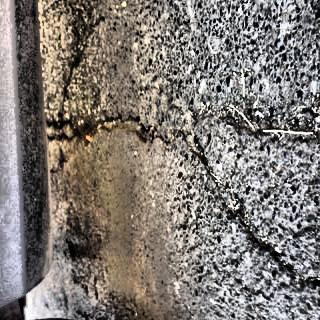crack: (189, 148, 320, 285), (42, 104, 189, 174), (183, 103, 320, 146)
